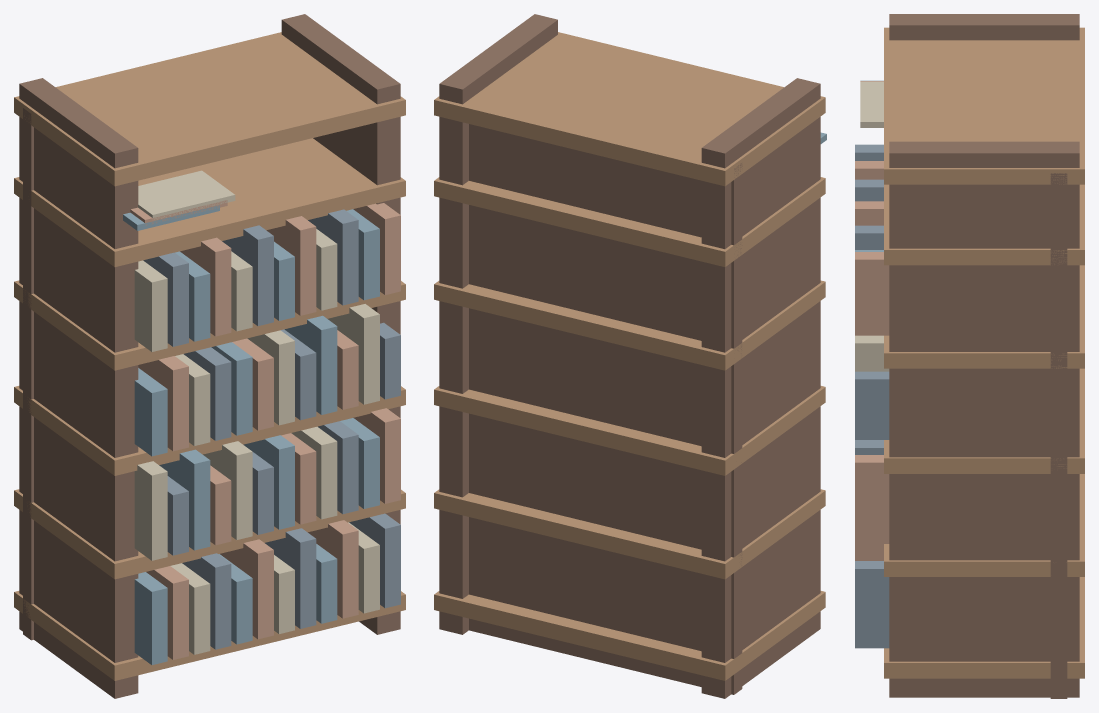
File: bookshelf.gltf
3 renders of one model, left to right at view 1: azimuth 30°, elevation 25°; view 2: azimuth 150°, elevation 25°; view 3: azimuth 270°, elevation 25°, orthographic.
Parts seen in each view (by area): view 1: Shelf board (×6), Shelf upright (×2), Shelf back panel, Horizontal notes (×3), Technical book 1-0, Technical book 0-0, Technical book 0-7, Technical book 3-0, Technical book 1-2, Technical book 2-10, Technical book 3-5, Technical book 3-7 (+40 smaller); view 2: Shelf back panel, Shelf board (×6), Shelf upright (×2); view 3: Shelf upright (×2), Shelf board (×6), Shelf back panel, Technical book 1-11, Technical book 0-11, Technical book 3-11, Technical book 2-11, Horizontal notes, Technical book 2-10, Technical book 3-7, Technical book 3-9, Technical book 3-5 (+4 smaller).
Part boxes in pixels (x1,y1,x2,y2): Shelf board (×6): (14,32,405,680); Shelf upright (×2): (19,14,400,698); Shelf back panel: (23,108,33,640); Horizontal notes (×3): (123,170,235,230); Technical book 1-0: (134,461,167,560); Technical book 0-0: (134,572,167,664); Technical book 0-7: (265,528,316,628); Technical book 3-0: (134,260,167,351); Technical book 1-2: (159,449,210,550); Technical book 2-10: (327,304,379,404); Technical book 3-5: (222,225,273,325); Technical book 3-7: (266,216,316,315); Shelf back panel: (469,124,742,694); Shelf board (×6): (434,32,825,680); Shelf upright (×2): (439,14,820,698); Shelf upright (×2): (889,14,1079,697); Shelf board (×6): (884,27,1084,678); Shelf back panel: (1050,173,1067,698); Technical book 1-11: (855,455,889,543); Technical book 0-11: (855,561,889,648); Technical book 3-11: (855,252,889,335); Technical book 2-11: (855,371,889,439); Horizontal notes: (860,81,883,127); Technical book 2-10: (855,335,889,371); Technical book 3-7: (855,201,883,225); Technical book 3-9: (855,225,883,249); Technical book 3-5: (855,179,883,201).
Size of the model in its own units: 1.62 by 2.9 by 1.11.
